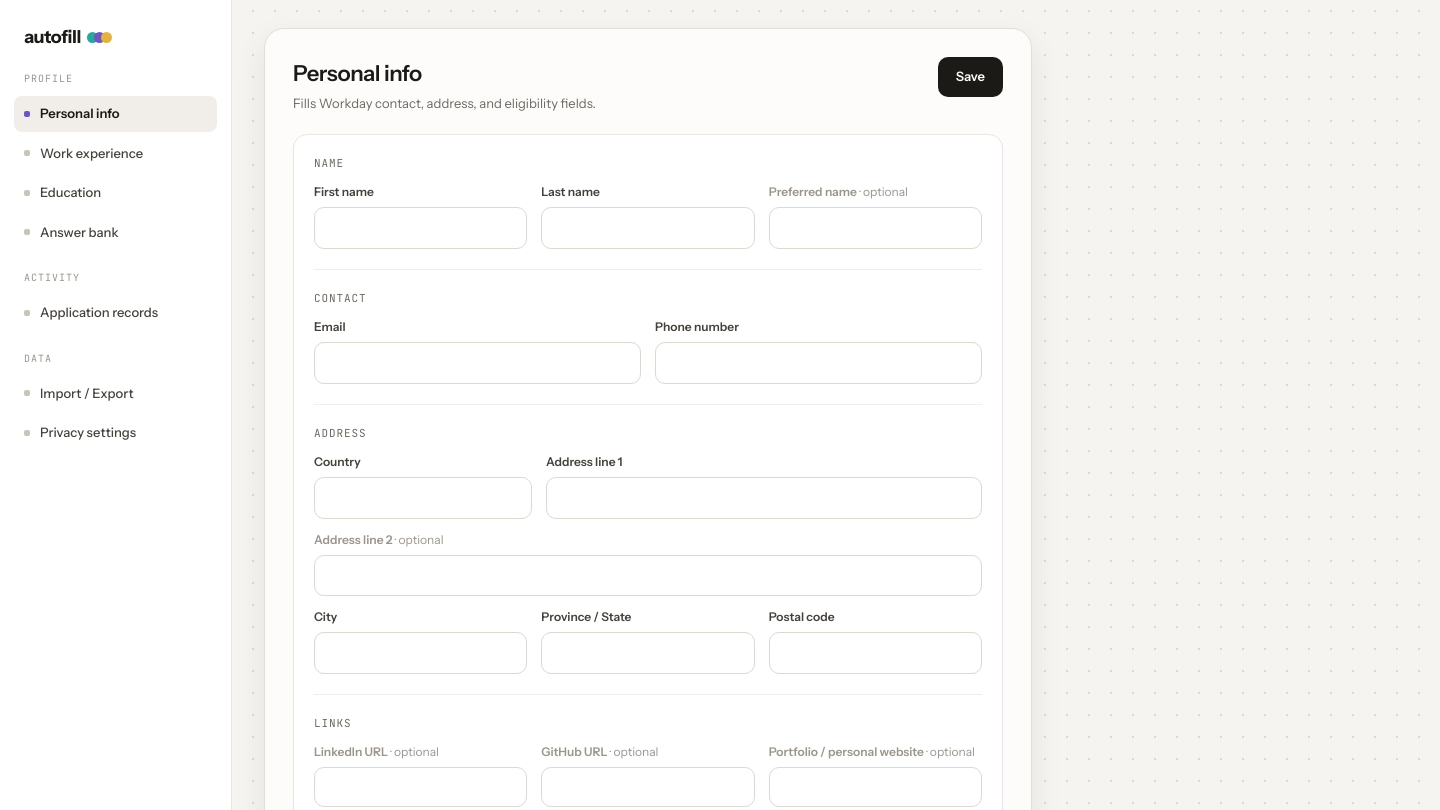
App › switches between profile sections via the tab navigation
Click the button "Work experience": (116, 153) 14,136 -> 217,171
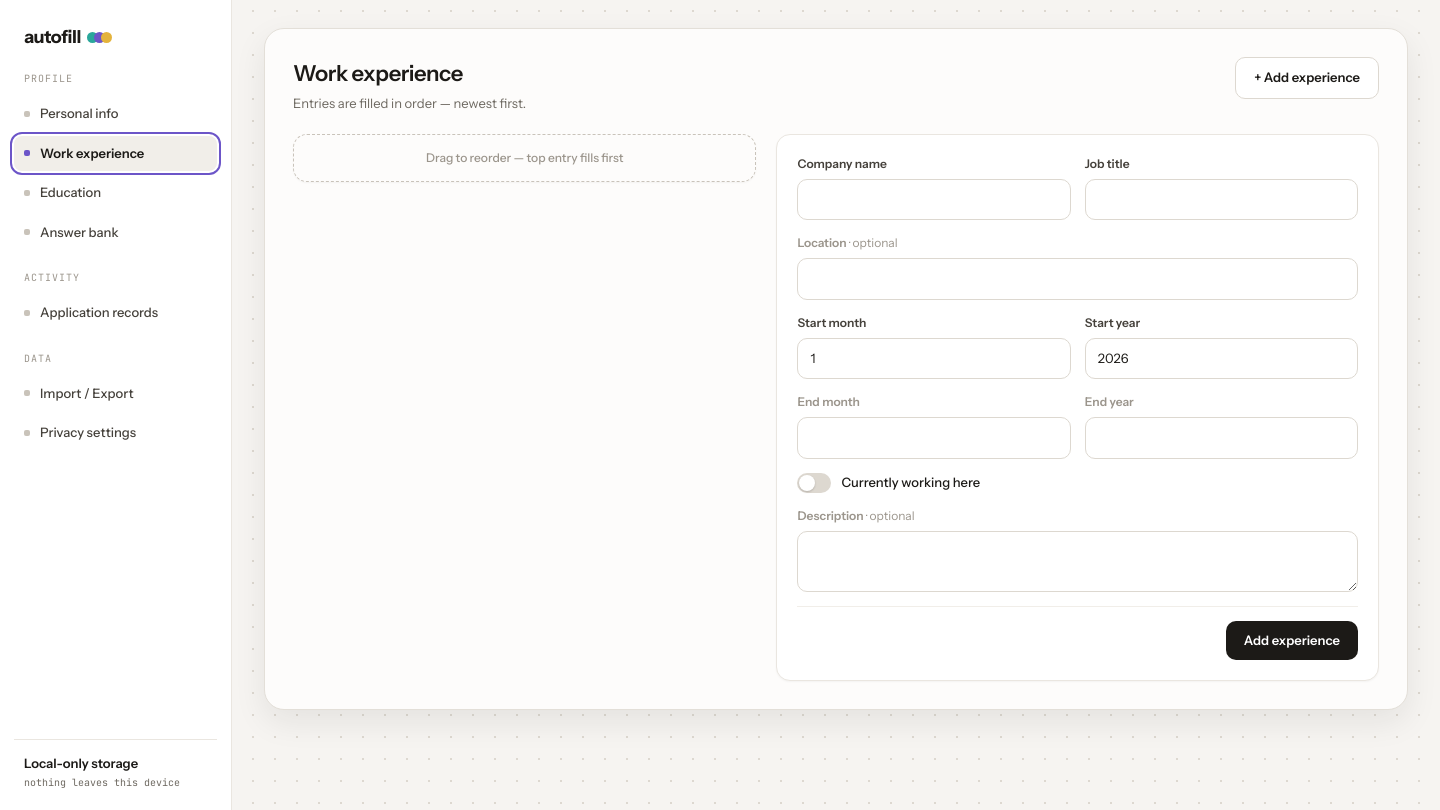
Check: the form named "Work experience form" is shown, box 776,134 -> 1379,681
Click the button "Education": (116, 193) 14,175 -> 217,210
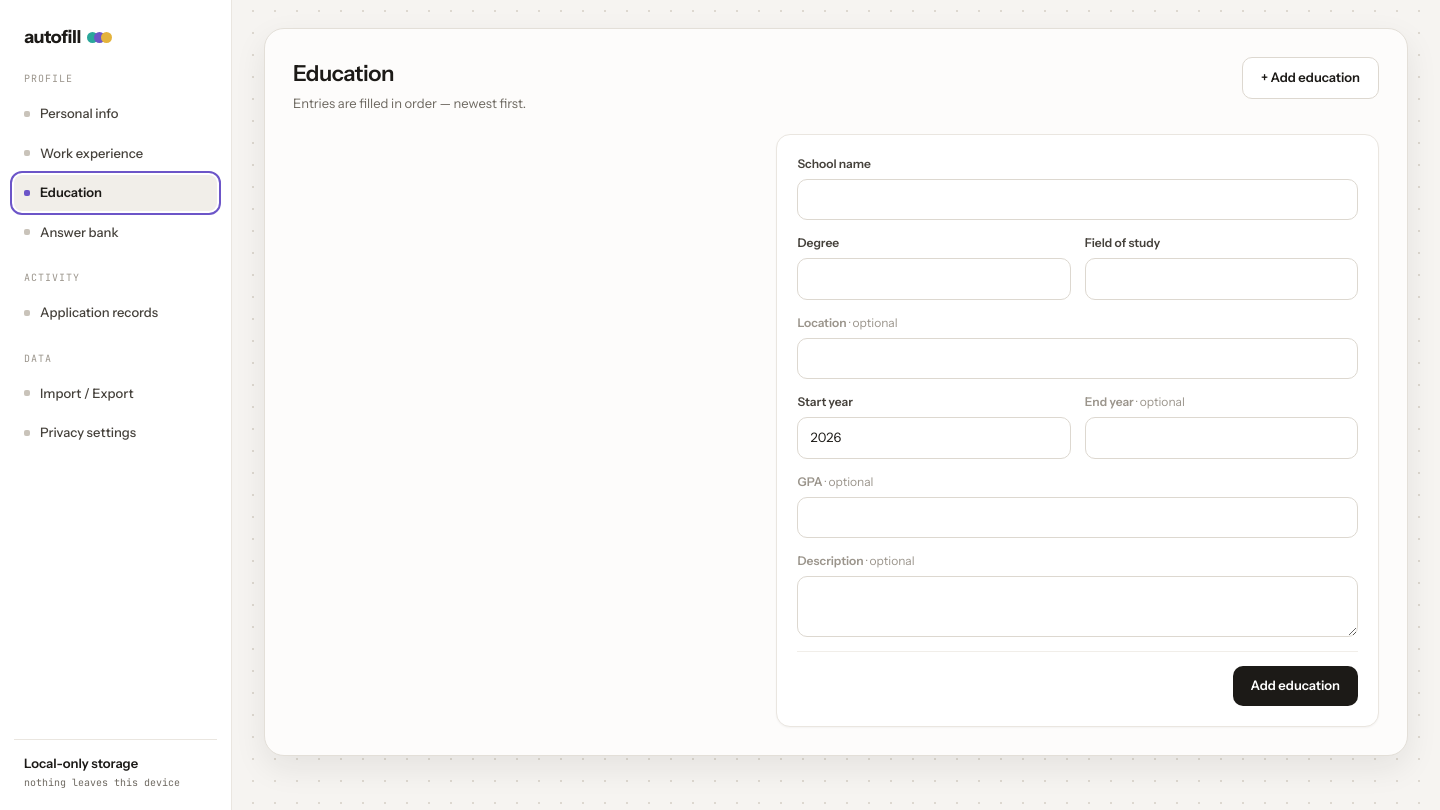
Check: the form named "Education form" is shown, box 776,134 -> 1379,726
Click the button "Answer bank": (116, 232) 14,214 -> 217,250
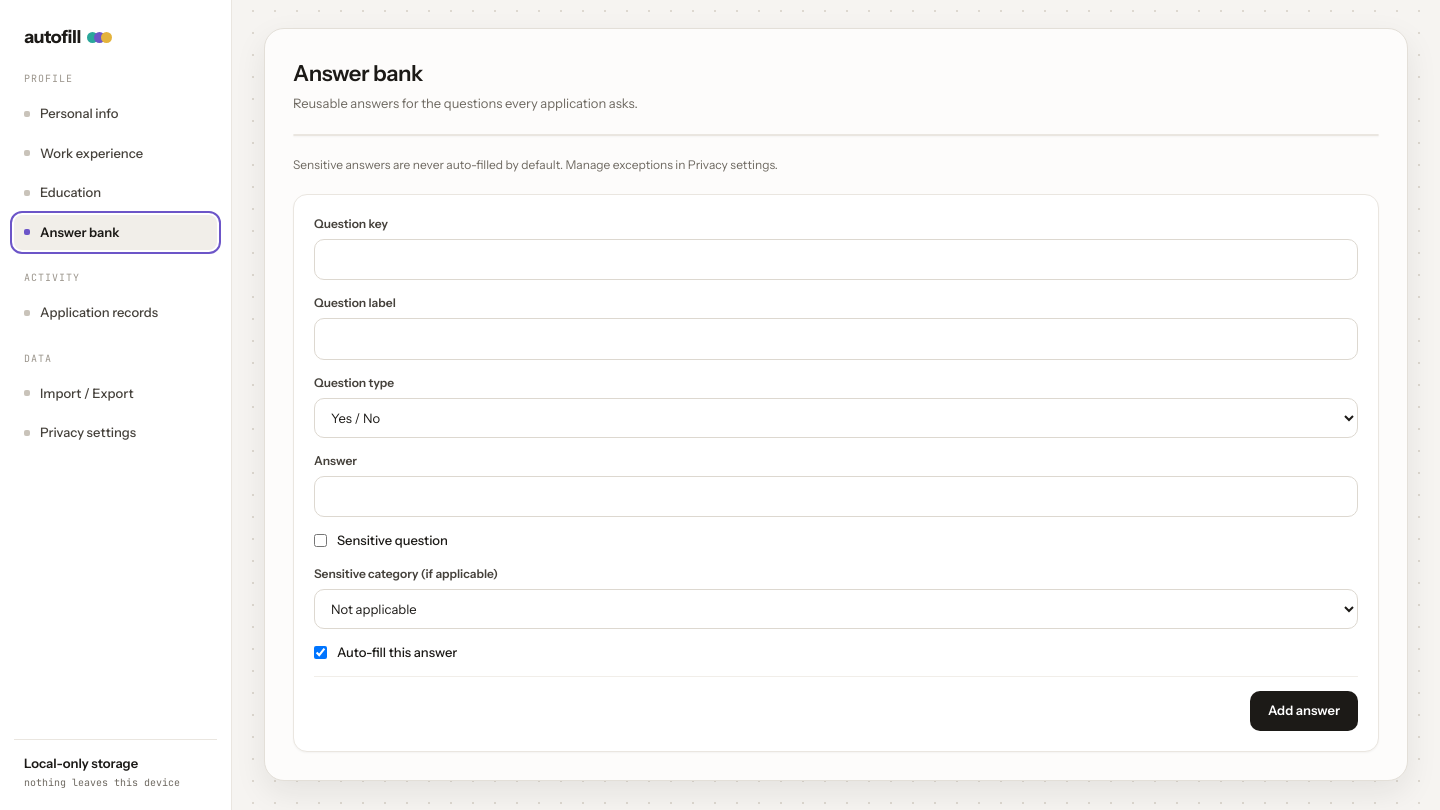
Check: the form named "Answer bank form" is shown, box 293,194 -> 1379,752
